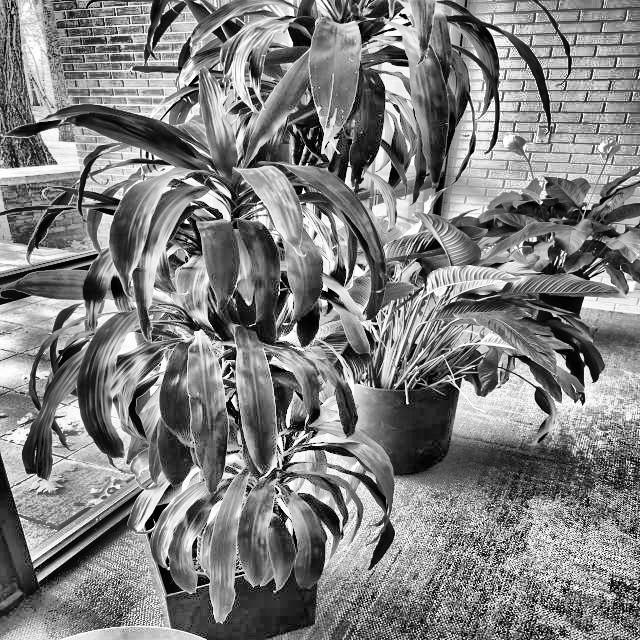plants: (140, 6, 640, 418), (57, 106, 354, 604)
